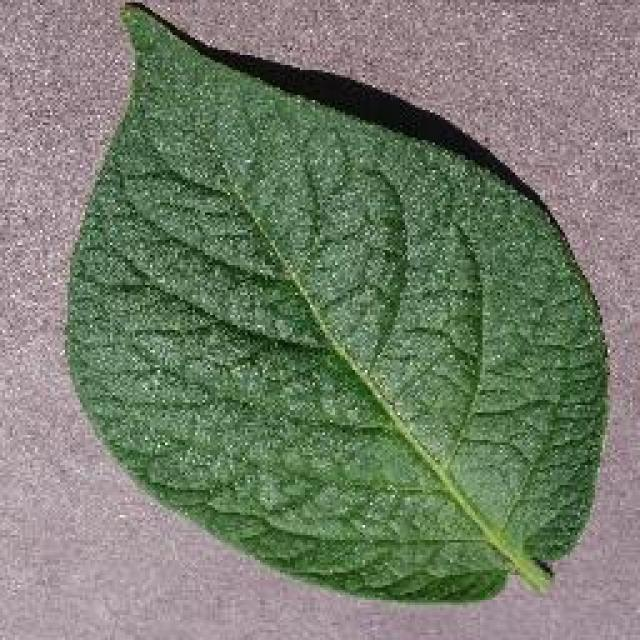healthy: (60, 0, 615, 610)
